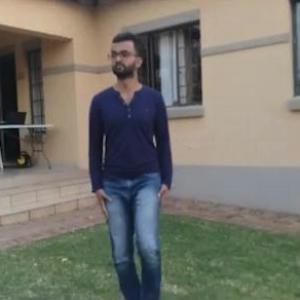follow: (90, 31, 170, 260)
